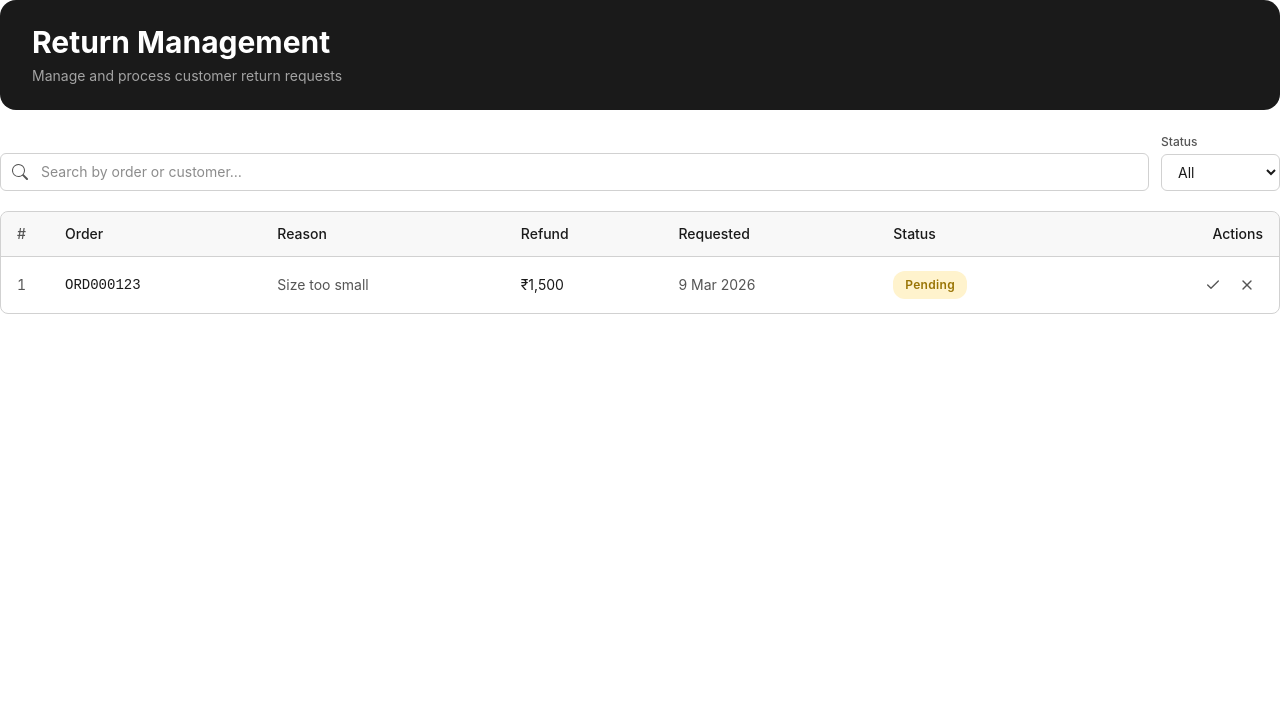
Test: AdminReturnsPage › confirms an approval, naming the refund amount
Click the button named "approve return": (1213, 285) top-left (1197, 269), bottom-right (1229, 301)
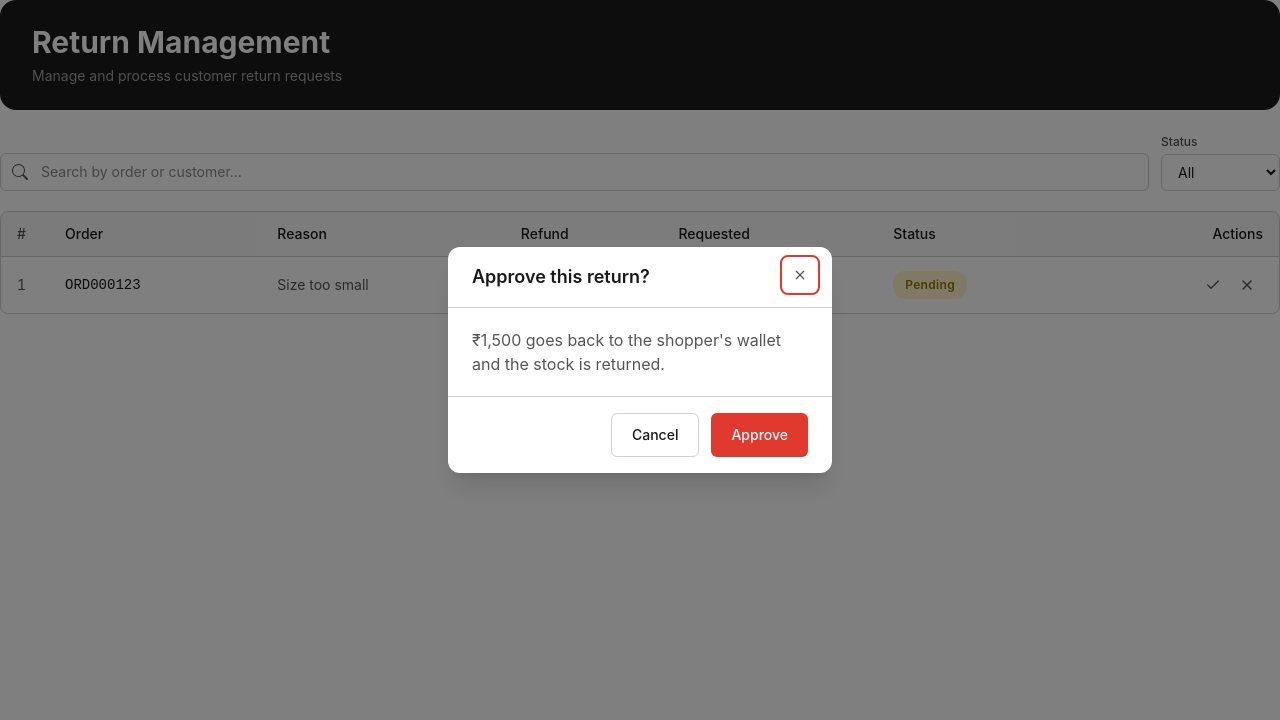
Result: the text "₹1,500 goes back" is shown at top-left (472, 330), bottom-right (781, 374)
